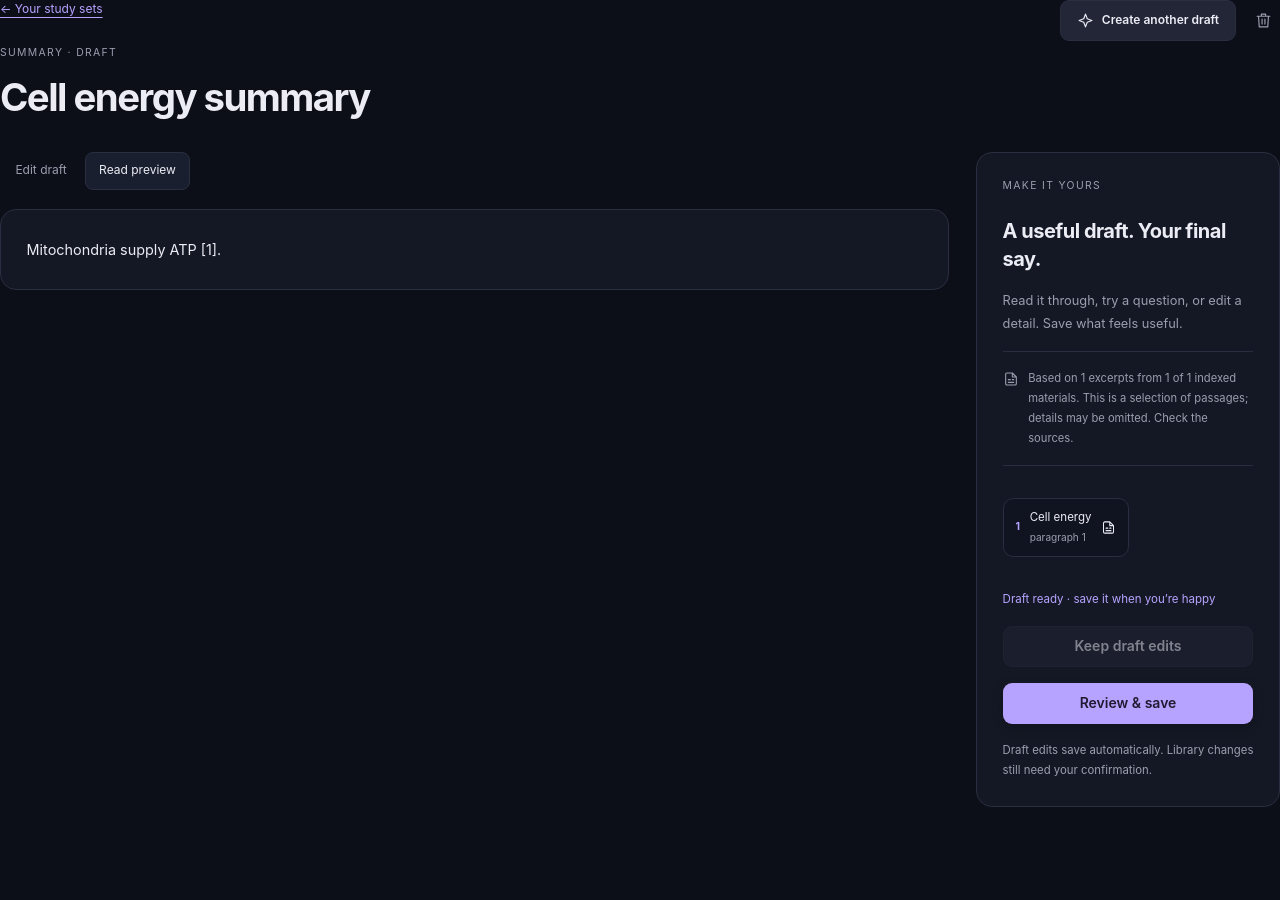
Complete study tools interface › requires a separate confirmation before deleting a generated study set
Expected: the button "Read preview" is shown, [85, 152, 190, 190]
Click the button named "Delete study set".
click(1263, 20)  # box [1246, 4, 1279, 38]
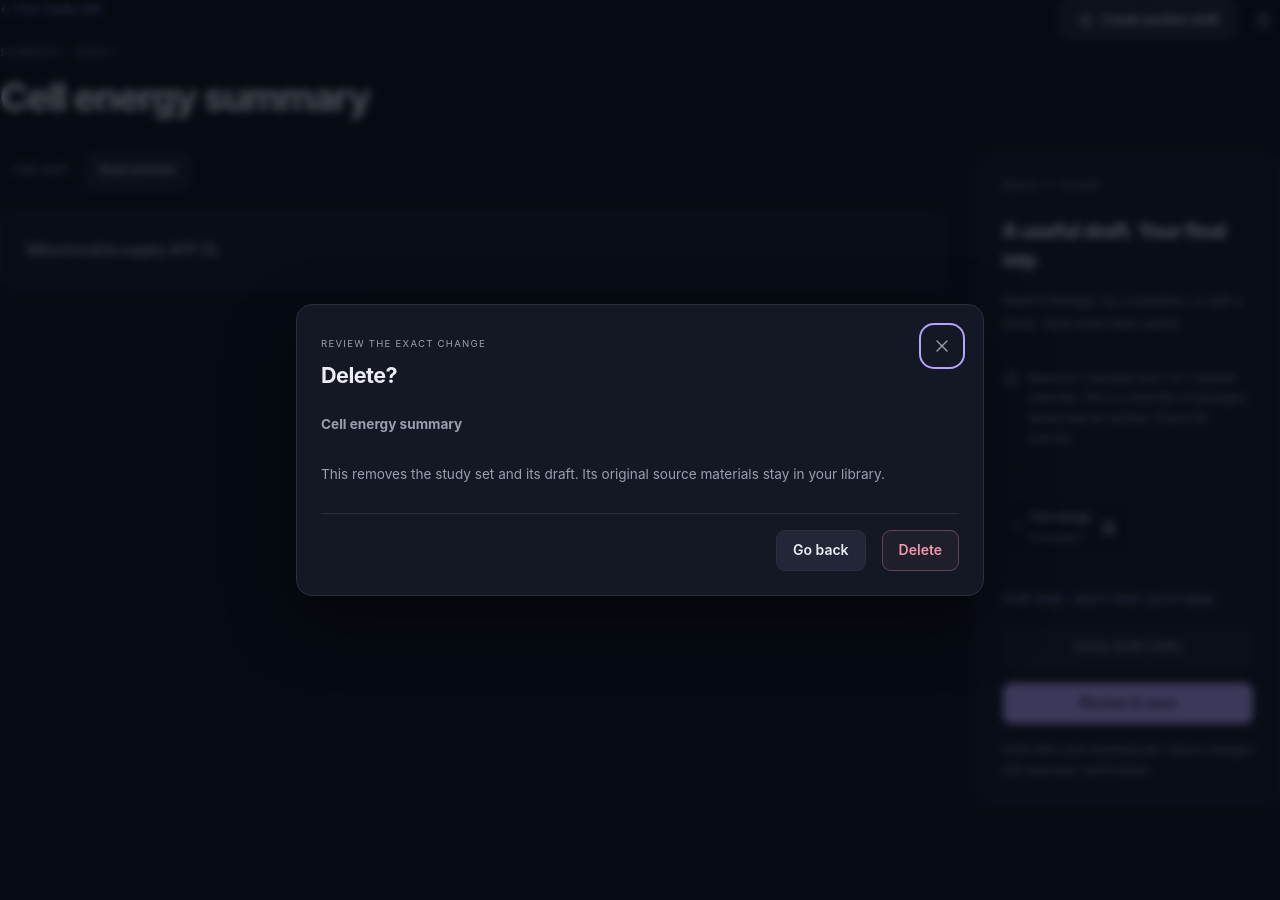
Click the button "Go back".
click(821, 551)  # box [776, 530, 866, 571]
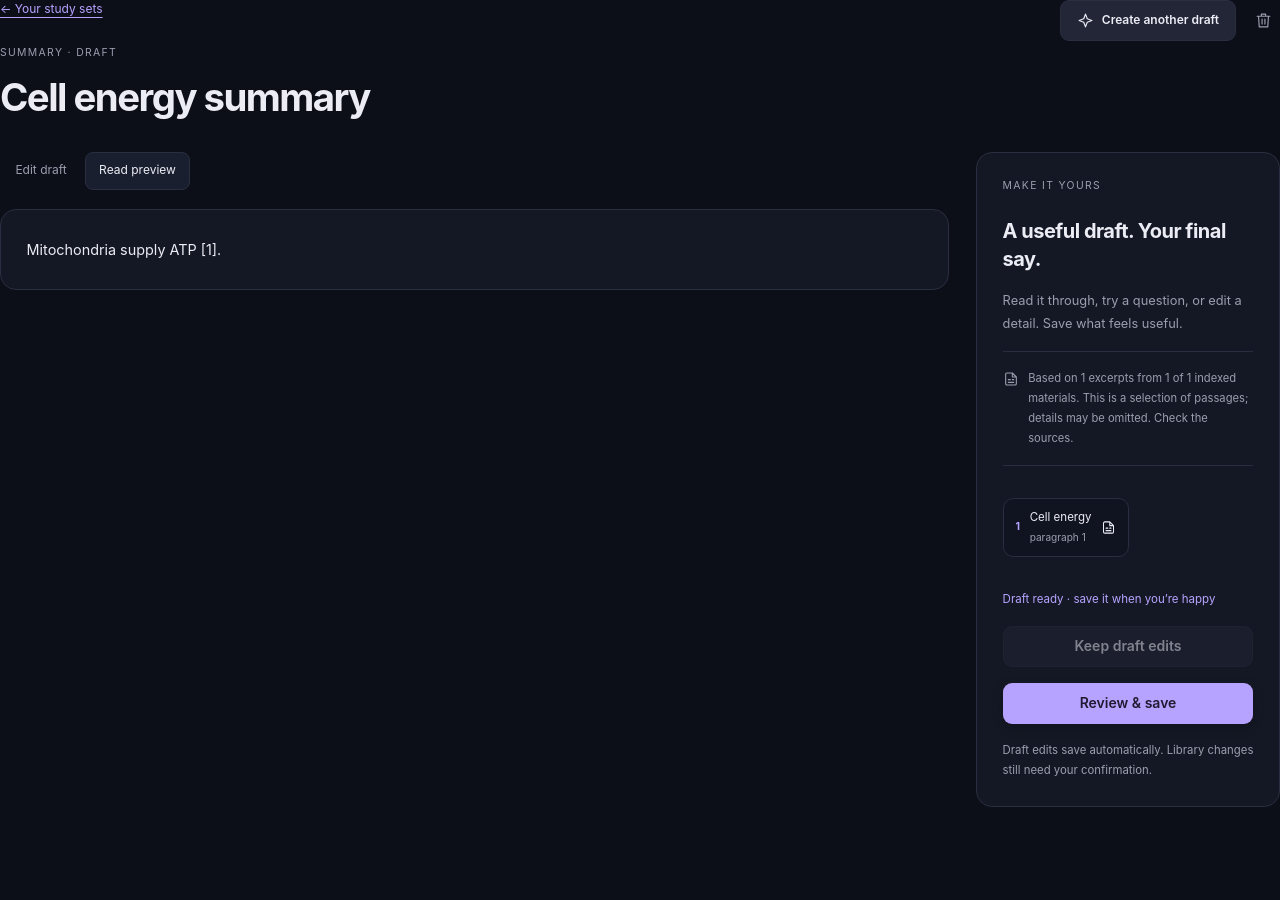
Result: the dialog is gone
